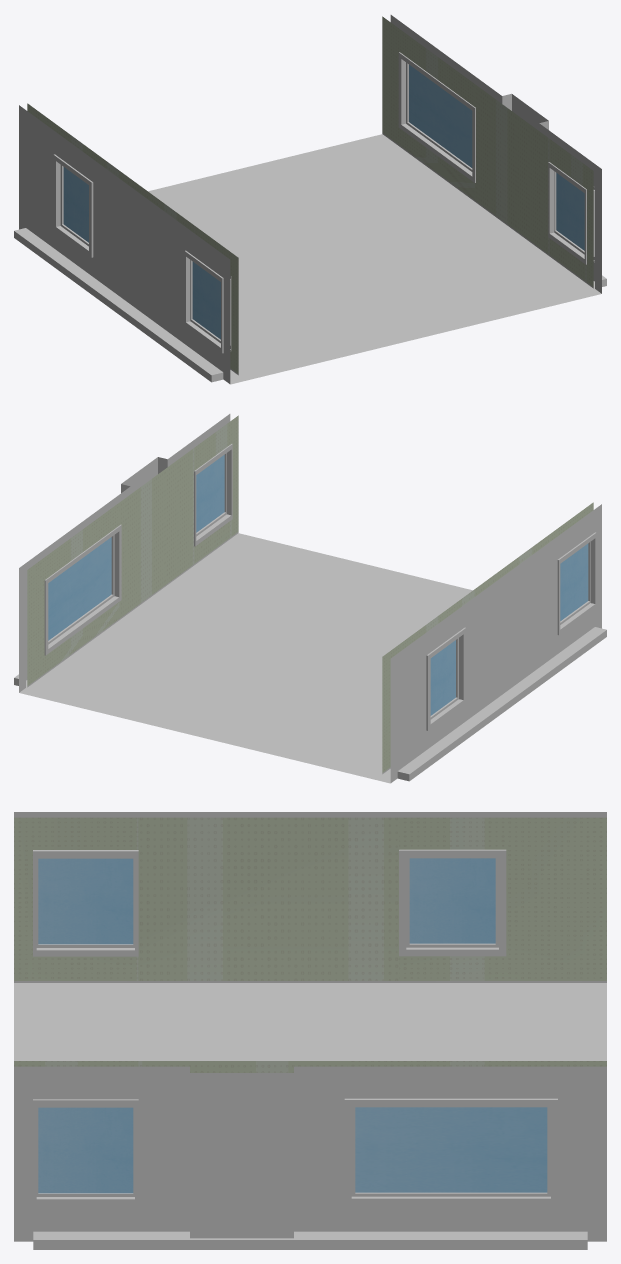
The model's file is Floor_01_B.fbx.
3 renders of one model, top to bottom at view 1: azimuth 30°, elevation 25°; view 2: azimuth 150°, elevation 25°; view 3: azimuth 270°, elevation 25°, orthographic. The views are drawn at different scales.
Visible parts, largest first — view 1: Floor_01_B; view 2: Floor_01_B; view 3: Floor_01_B.
Part boxes in pixels (x1=…): Floor_01_B: x1=14, y1=15, x2=606, y2=384; Floor_01_B: x1=14, y1=414, x2=606, y2=783; Floor_01_B: x1=14, y1=812, x2=606, y2=1249.
Bounding box in the file's own units: 1224 × 369 × 1133.
